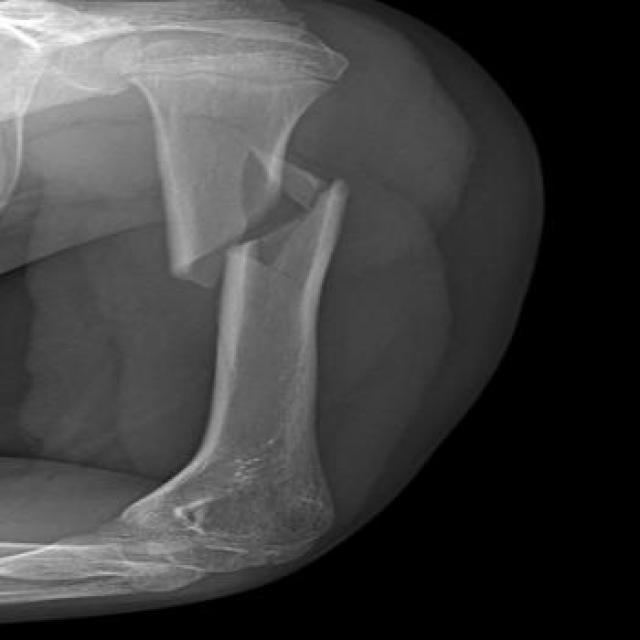fracture: (146, 164, 390, 294)
